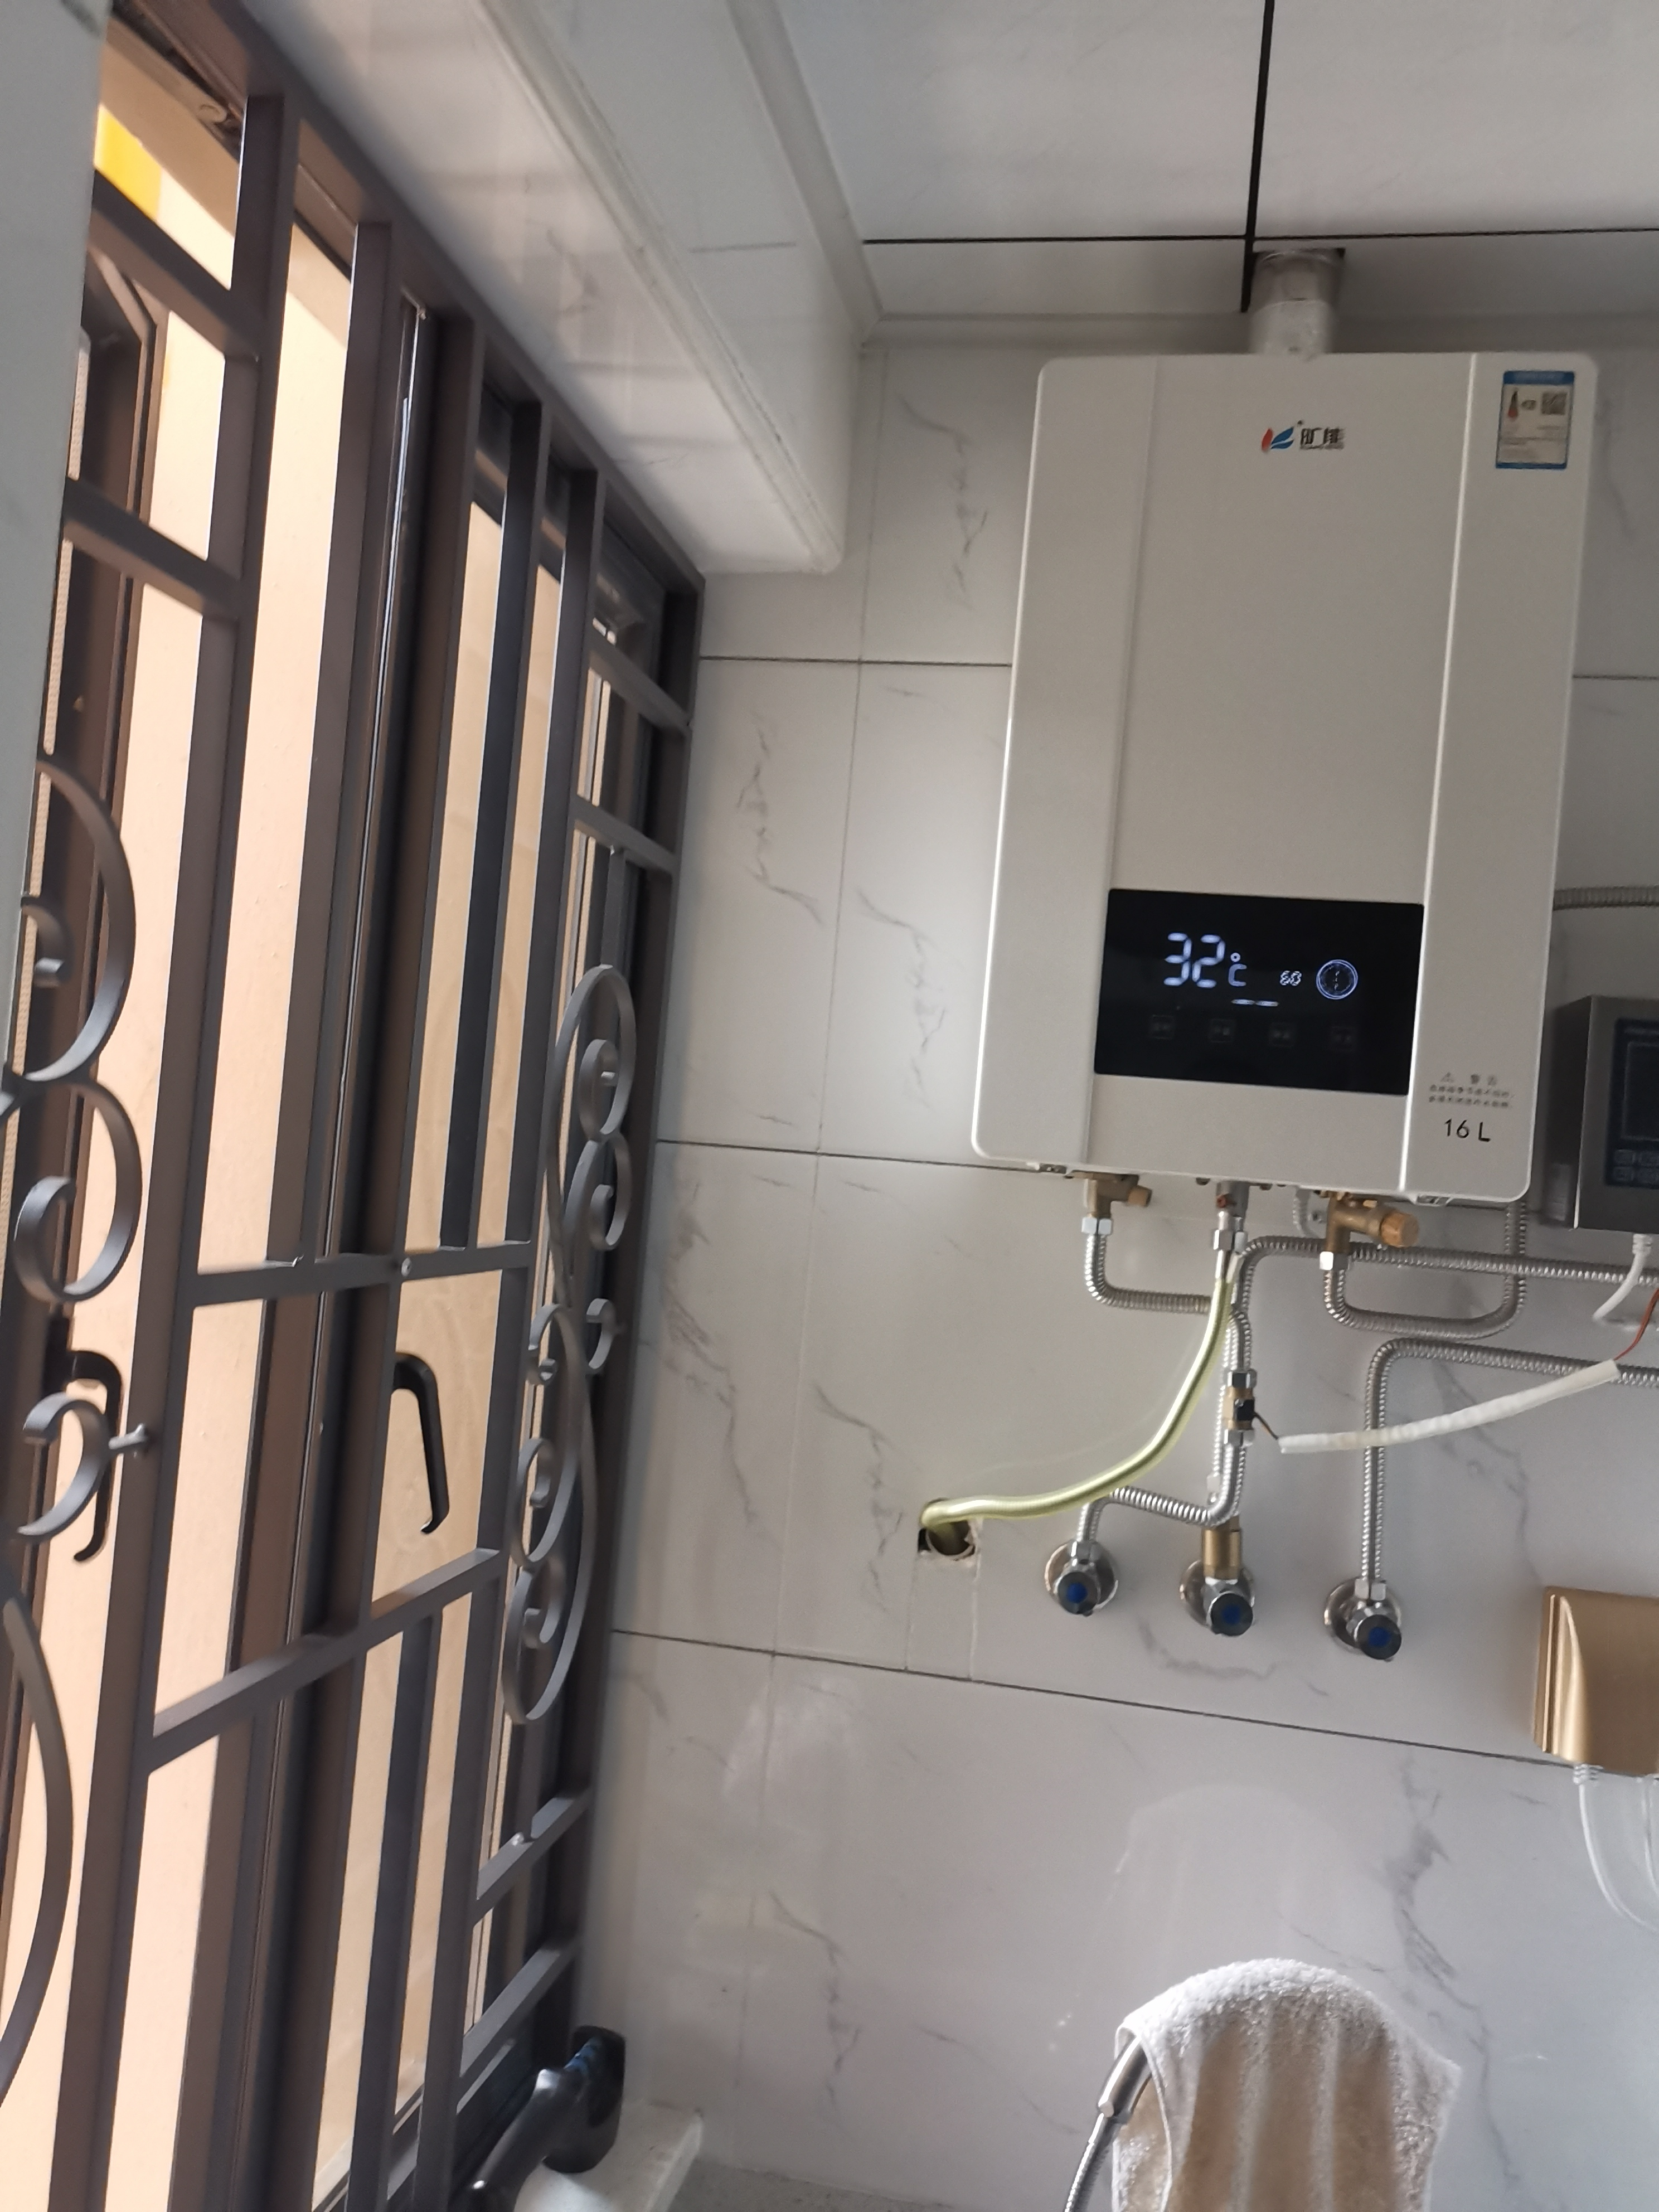loudou: (1246, 395, 1371, 474)
